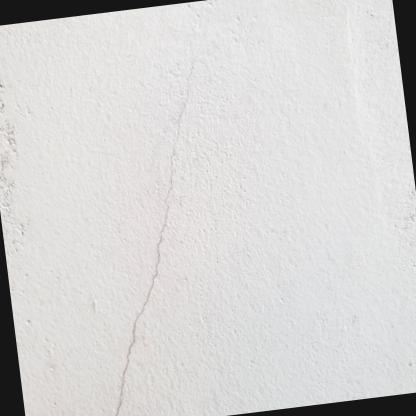crack: (109, 59, 194, 416)
